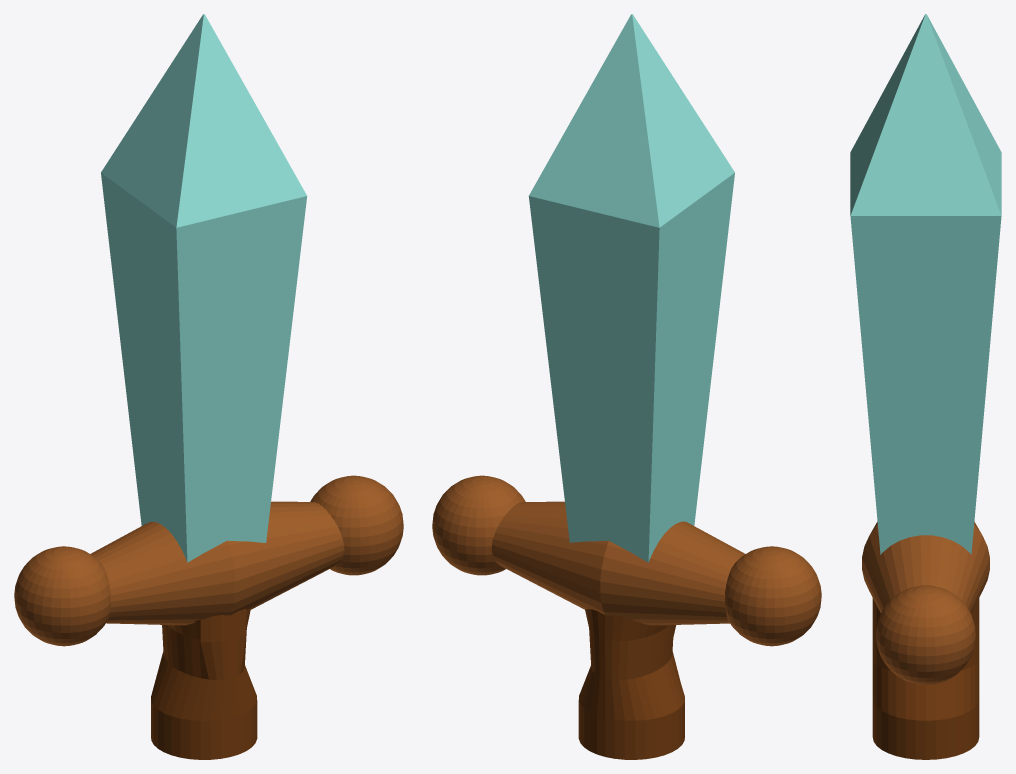
The model's file is Sword.fbx.
3 renders of one model, left to right at view 1: azimuth 30°, elevation 25°; view 2: azimuth 150°, elevation 25°; view 3: azimuth 270°, elevation 25°, orthographic.
Visible parts, largest first — view 1: Cube, Cylinder, Cylinder.001, Sphere, Sphere.001; view 2: Cube, Cylinder, Cylinder.001, Sphere, Sphere.001; view 3: Cube, Cylinder.001, Sphere.001, Cylinder.
Part boxes in pixels (bbox=[...]): Cube: bbox=[101, 14, 307, 562]; Cylinder: bbox=[90, 501, 344, 625]; Cylinder.001: bbox=[151, 608, 257, 759]; Sphere: bbox=[14, 546, 110, 646]; Sphere.001: bbox=[310, 475, 403, 575]; Cube: bbox=[528, 14, 734, 562]; Cylinder: bbox=[491, 501, 745, 625]; Cylinder.001: bbox=[578, 609, 684, 759]; Sphere: bbox=[725, 546, 821, 646]; Sphere.001: bbox=[432, 475, 525, 575]; Cube: bbox=[850, 14, 1001, 554]; Cylinder.001: bbox=[872, 598, 979, 759]; Sphere.001: bbox=[876, 585, 975, 684]; Cylinder: bbox=[862, 521, 989, 612].
Bounding box in the file's own units: 303 × 556 × 105.
